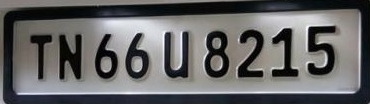1: (269, 26, 300, 78)
2: (237, 29, 266, 80)
5: (305, 24, 338, 80)
6: (124, 31, 152, 81), (94, 33, 119, 81)
8: (204, 29, 230, 79)
N: (58, 32, 85, 81)
T: (28, 33, 53, 82)
U: (161, 31, 192, 82)
